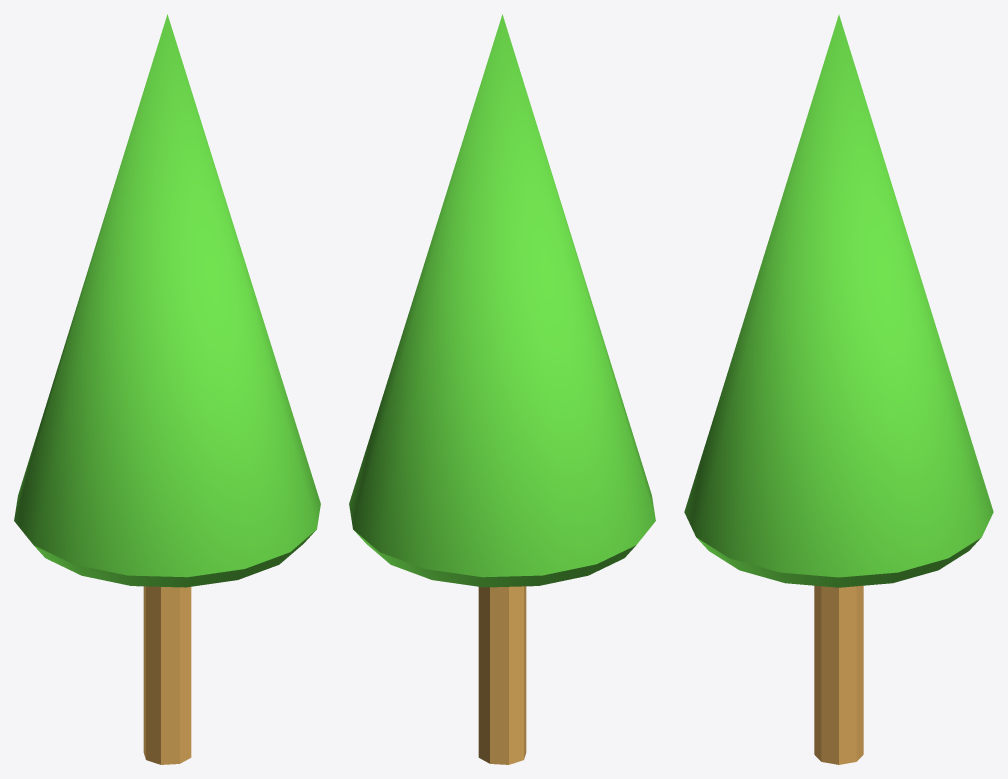
Rendered from cone_tree.glb.
3 views of the same model, side by side, from view 1: azimuth 30°, elevation 25°; view 2: azimuth 150°, elevation 25°; view 3: azimuth 270°, elevation 25° (orthographic).
Visible parts, largest first — view 1: Prop_Tree_05; view 2: Prop_Tree_05; view 3: Prop_Tree_05.
Part boxes in pixels (<box>): Prop_Tree_05: <box>14,14,320,764</box>; Prop_Tree_05: <box>349,14,655,764</box>; Prop_Tree_05: <box>684,15,993,764</box>.
Size of the model in its own units: 1.94 by 5.12 by 1.94.
Materials: 1 (1 with a texture image).
